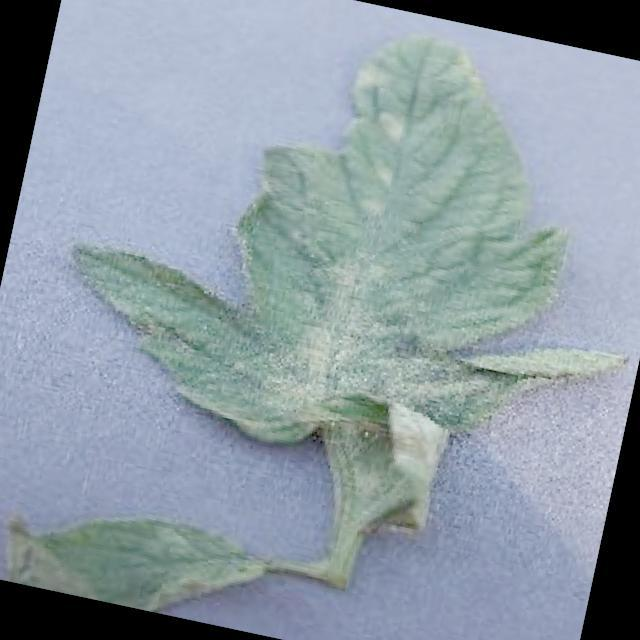Tomato mold leaf: (34, 0, 640, 568)
